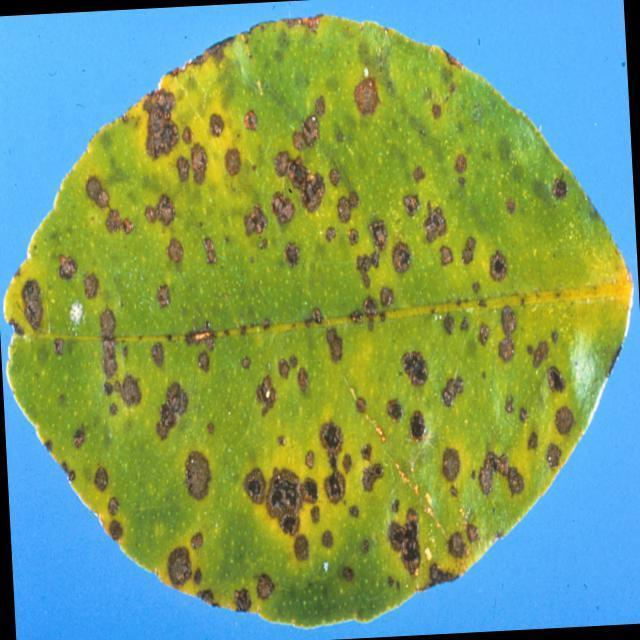Bacterial Spot: (9, 38, 587, 631)
